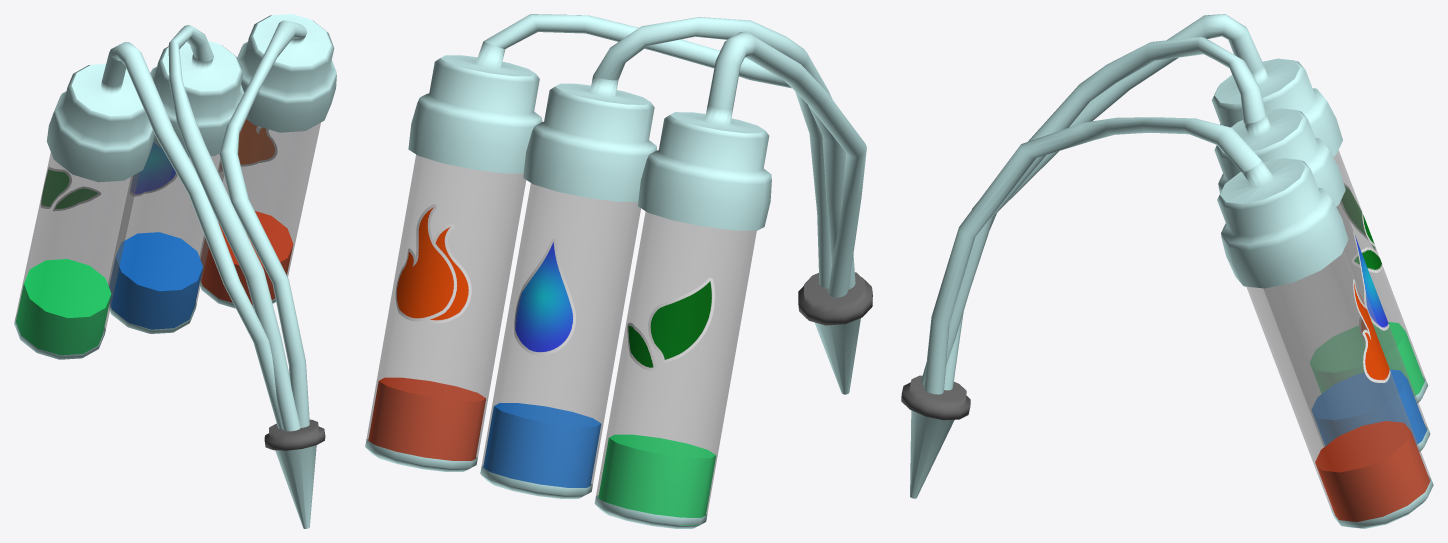
Rendered from Backpack.fbx.
The picture shows the model from 3 angles, left to right: view 1: azimuth 30°, elevation 25°; view 2: azimuth 150°, elevation 25°; view 3: azimuth 270°, elevation 25°; orthographic projection. The views are drawn at different scales.
Visible parts, largest first — view 1: Earth_Container, Water_Container1, Earth_Top, Fire_Container, Water_Pipe, Fire_Top, Earth_Pipe, Water_Liquid, Fire_Pipe, Earth_Liquid, Water_Top, Exit_Point (+4 smaller); view 2: Earth_Container, Water_Container1, Fire_Container, Earth_Top, Fire_Top, Water_Top, Earth_Pipe, Water_Liquid, Earth_Liquid, Fire_Liquid, Water_Pipe, Fire_Pipe (+4 smaller); view 3: Fire_Container, Fire_Top, Water_Container1, Fire_Pipe, Fire_Liquid, Water_Pipe, Water_Liquid, Water_Top, Earth_Top, Earth_Pipe, Exit_Point, Earth_Liquid (+4 smaller).
Boxes of the visible parts, x1,y1,x2,y2 form: Earth_Container: [14, 152, 139, 359]; Water_Container1: [108, 142, 224, 333]; Earth_Top: [46, 64, 154, 182]; Fire_Container: [199, 119, 320, 308]; Water_Pipe: [168, 25, 300, 431]; Fire_Top: [237, 14, 336, 132]; Earth_Pipe: [102, 42, 282, 429]; Water_Liquid: [109, 232, 202, 329]; Fire_Pipe: [219, 20, 309, 427]; Earth_Liquid: [16, 259, 111, 355]; Water_Top: [150, 41, 244, 157]; Exit_Point: [264, 419, 325, 528]; Earth_Container: [594, 211, 756, 528]; Water_Container1: [480, 183, 640, 498]; Fire_Container: [365, 154, 526, 471]; Earth_Top: [638, 104, 771, 230]; Fire_Top: [408, 41, 542, 173]; Water_Top: [523, 75, 656, 202]; Earth_Pipe: [708, 31, 866, 297]; Water_Liquid: [483, 403, 601, 487]; Earth_Liquid: [598, 434, 715, 525]; Fire_Liquid: [368, 377, 485, 460]; Water_Pipe: [593, 17, 855, 289]; Fire_Pipe: [484, 14, 831, 288]; Fire_Container: [1246, 250, 1433, 528]; Fire_Top: [1217, 158, 1348, 288]; Water_Container1: [1264, 200, 1430, 451]; Fire_Pipe: [924, 117, 1261, 394]; Fire_Liquid: [1315, 421, 1430, 521]; Water_Pipe: [921, 37, 1265, 385]; Water_Liquid: [1312, 369, 1426, 445]; Water_Top: [1214, 108, 1345, 206]; Earth_Top: [1211, 58, 1342, 156]; Earth_Pipe: [944, 14, 1263, 390]; Exit_Point: [901, 375, 970, 498]; Earth_Liquid: [1310, 322, 1424, 396].
Size of the model in its own units: 48.77 by 67.1 by 70.88.
